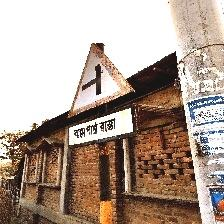Side-road-left: (66, 43, 137, 148)
